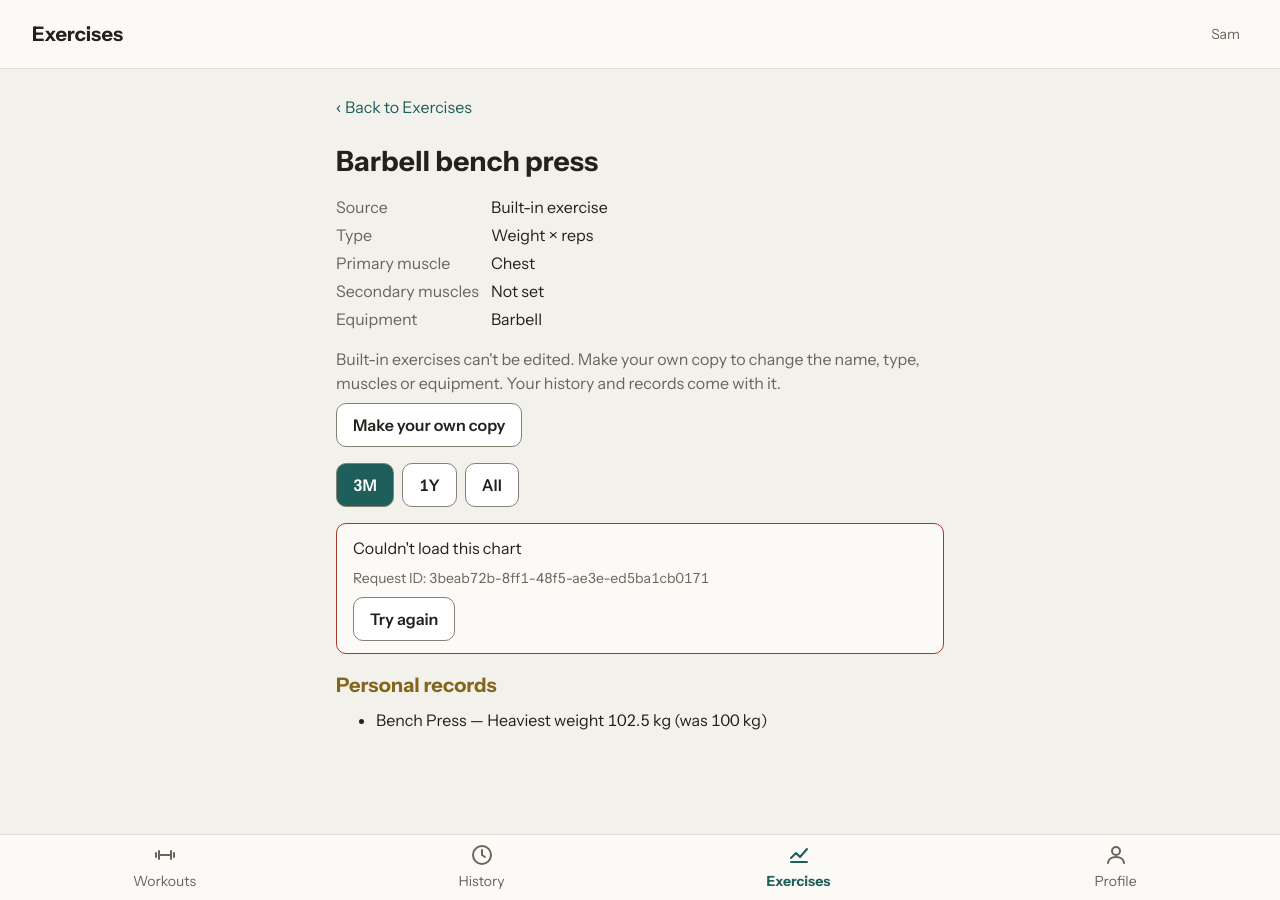
Test: 08.1 AC21 / 18.2 AC23 — series failure › first load fails → chart-area notice, chips usable, records unaffected; unknown is reported
The image size is (1280, 900).
Expected: the message shows "Couldn't load this chart", [353,538,522,558]
Expected: the element "Personal records" is shown, [336,673,767,730]
Click the button "Try again".
click(404, 619)  # box [353,597,455,641]
(page scrolled)
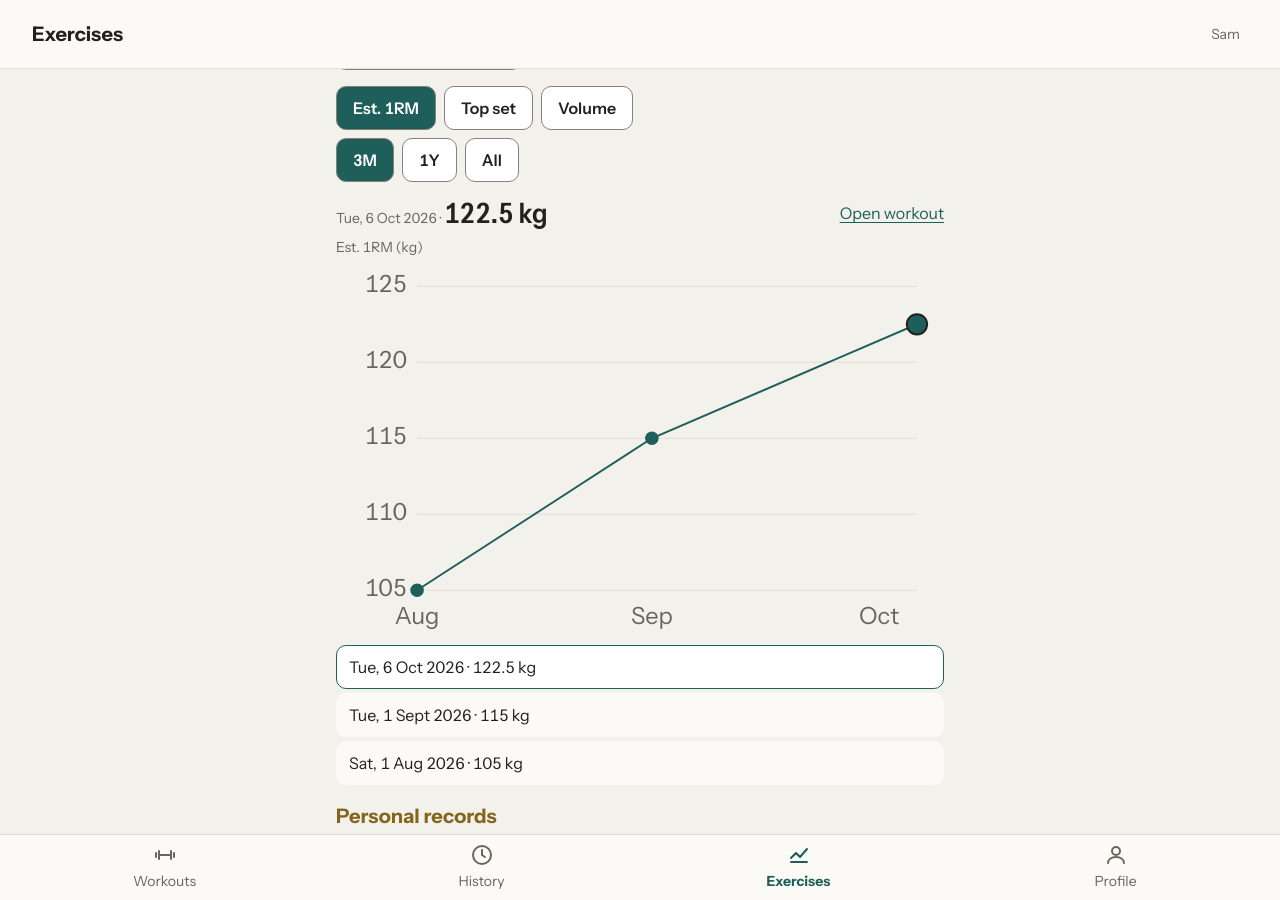
Expected: the picture named "3 months" is shown, [336,266,944,637]
